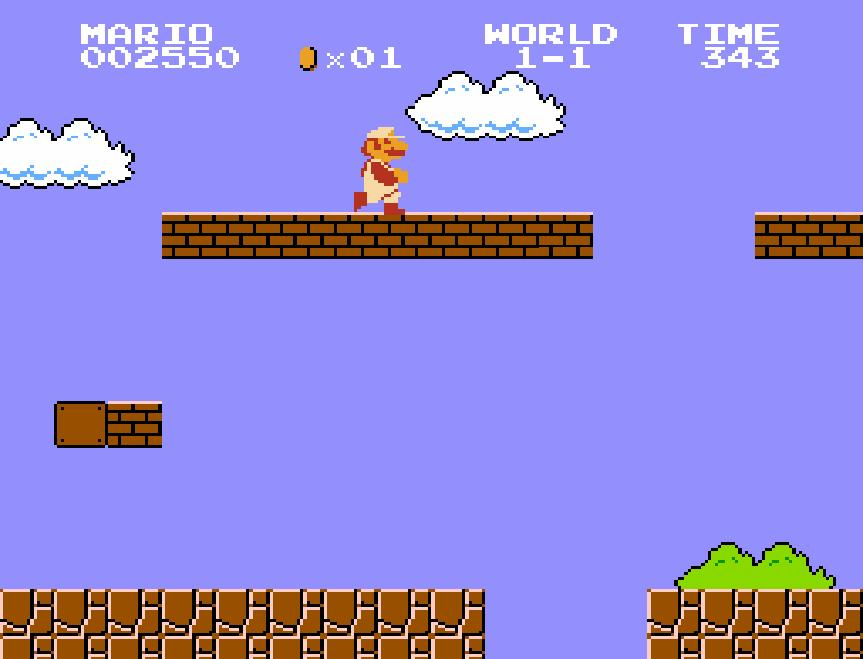fire_mario: (352, 118, 410, 216)
